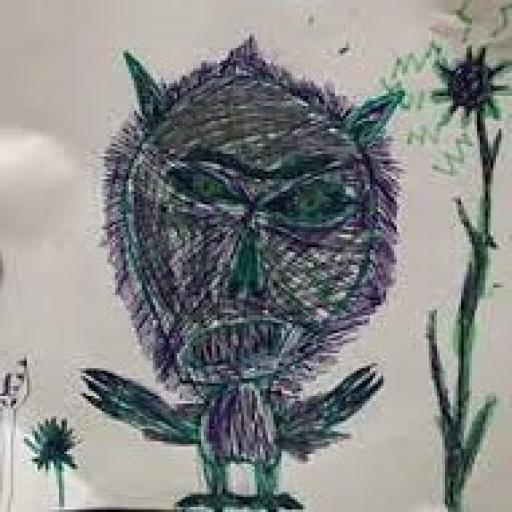person: (81, 36, 414, 506)
